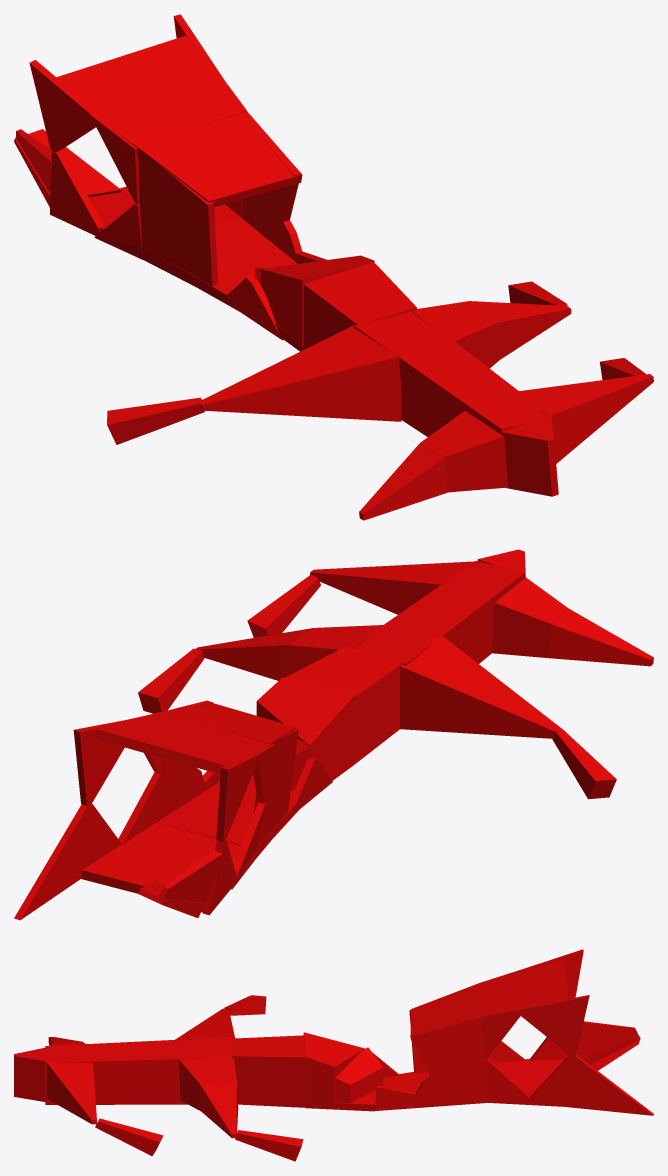
Rendered from SM_Bld_Pylon_Broken_01_Collision.fbx.
The picture shows the model from 3 angles, top to bottom: view 1: azimuth 30°, elevation 25°; view 2: azimuth 150°, elevation 25°; view 3: azimuth 270°, elevation 25°; orthographic projection. The views are drawn at different scales.
Visible parts, largest first — view 1: SM_Bld_Pylon_Broken_01_Collision; view 2: SM_Bld_Pylon_Broken_01_Collision; view 3: SM_Bld_Pylon_Broken_01_Collision.
Part boxes in pixels (box(x1,y1,x2,y2)): SM_Bld_Pylon_Broken_01_Collision: box(14, 14, 653, 520); SM_Bld_Pylon_Broken_01_Collision: box(14, 549, 653, 920); SM_Bld_Pylon_Broken_01_Collision: box(14, 949, 653, 1161).
Bounding box in the file's own units: 1702 × 616 × 2971.
